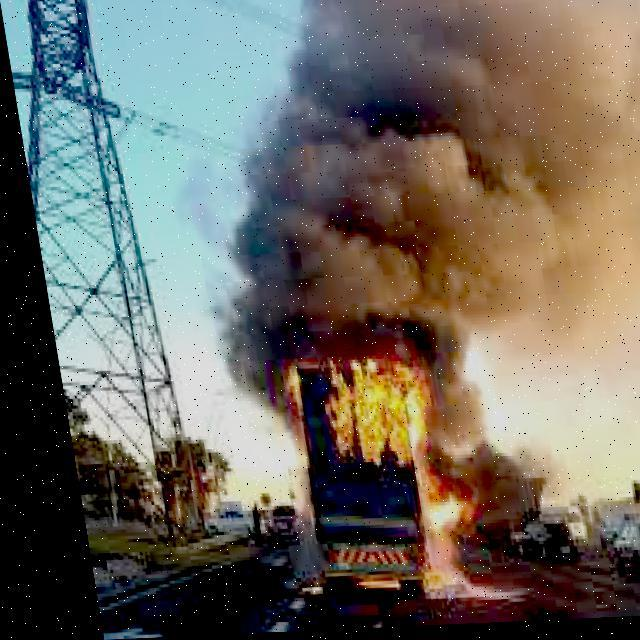Fire: (266, 343, 472, 603)
